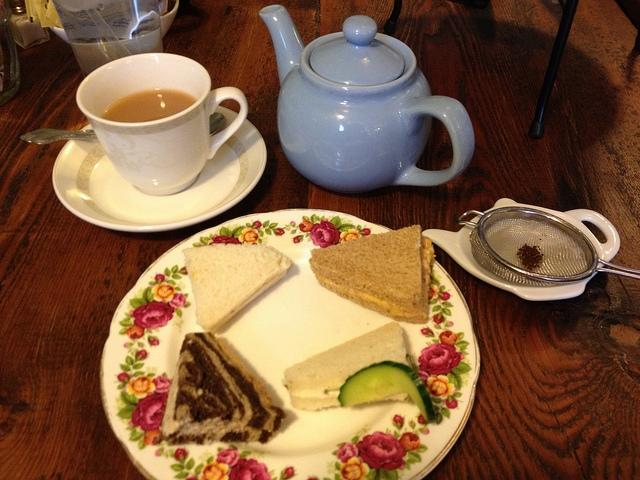cucumber: (337, 360, 436, 420)
